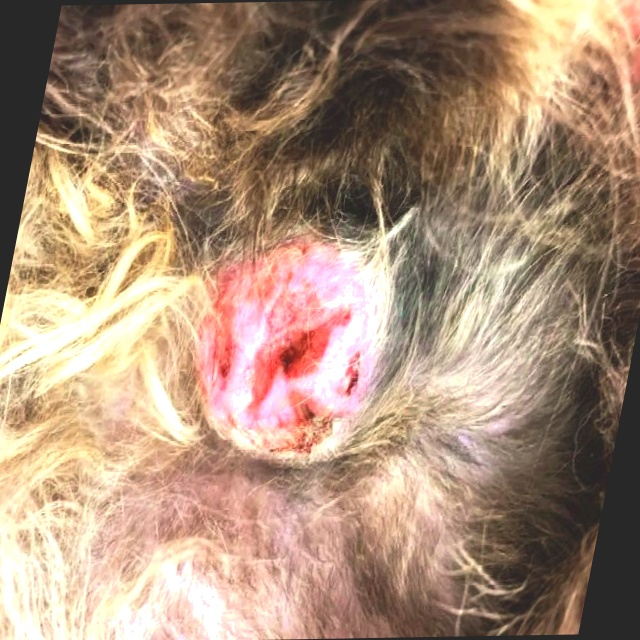lump_and_bump: (170, 235, 413, 492)
